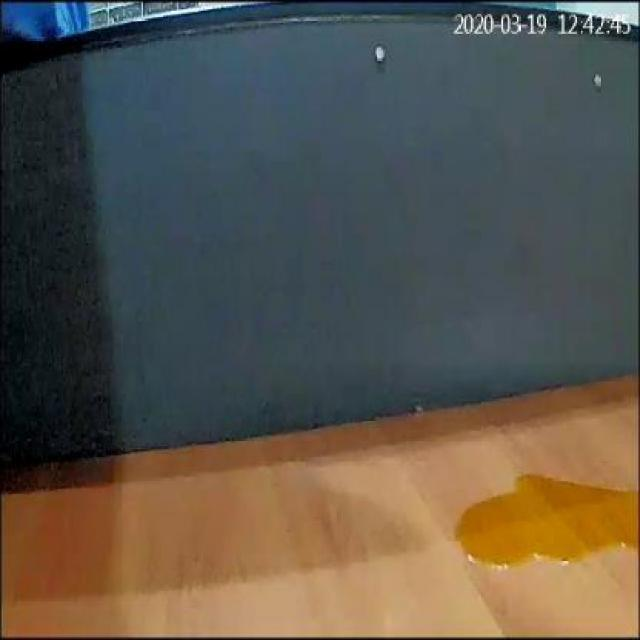spill: (454, 474, 640, 562)
